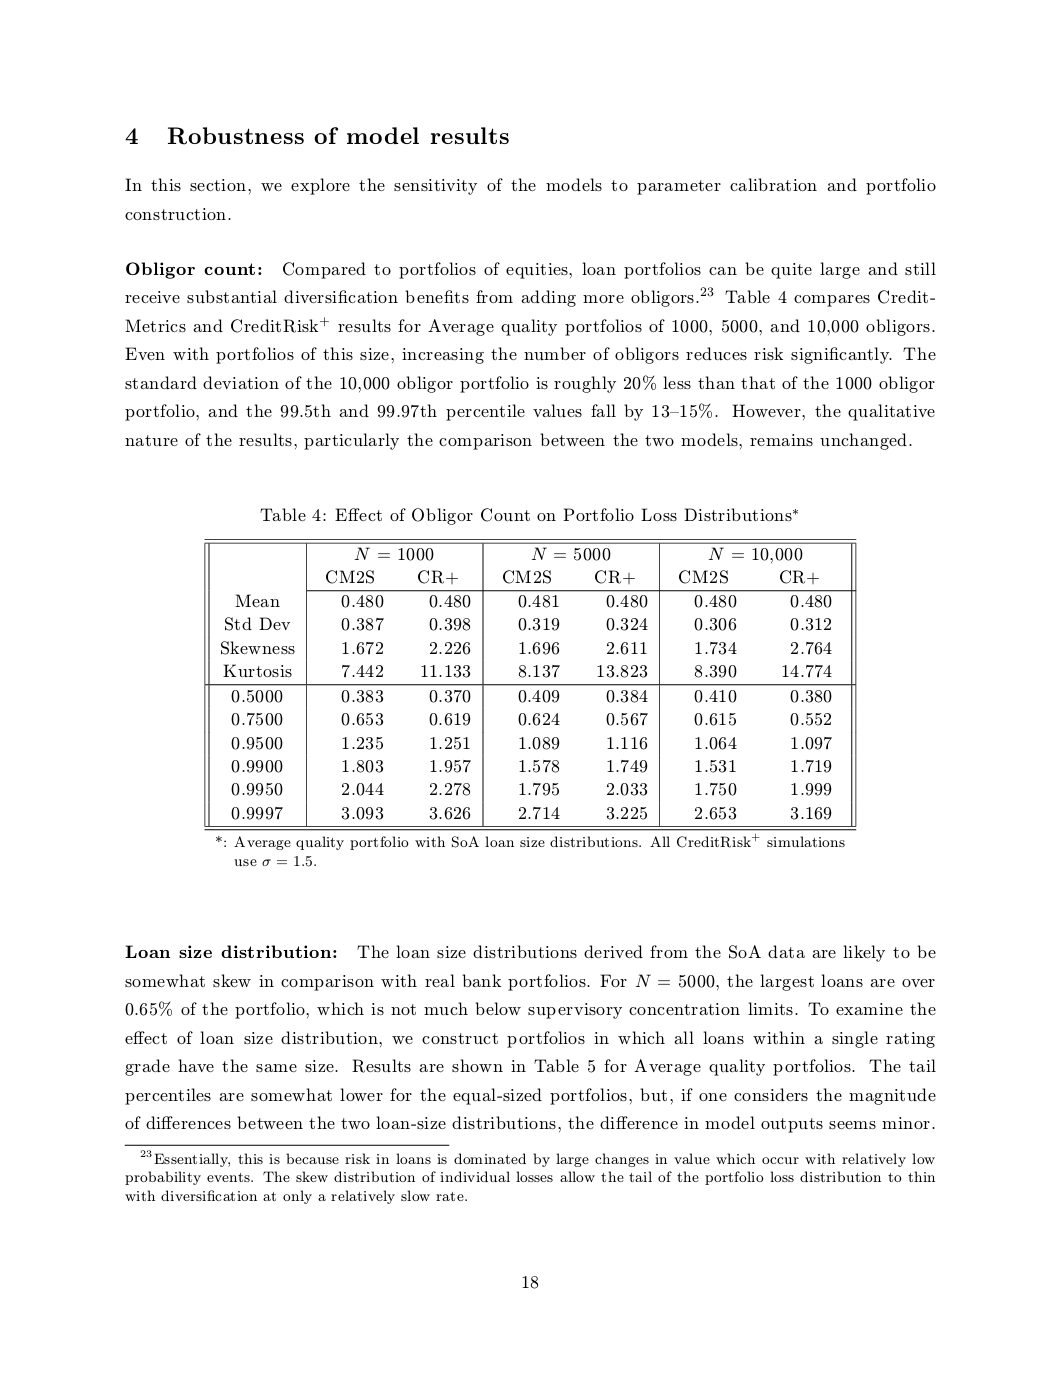Table: (204, 538, 856, 831)
